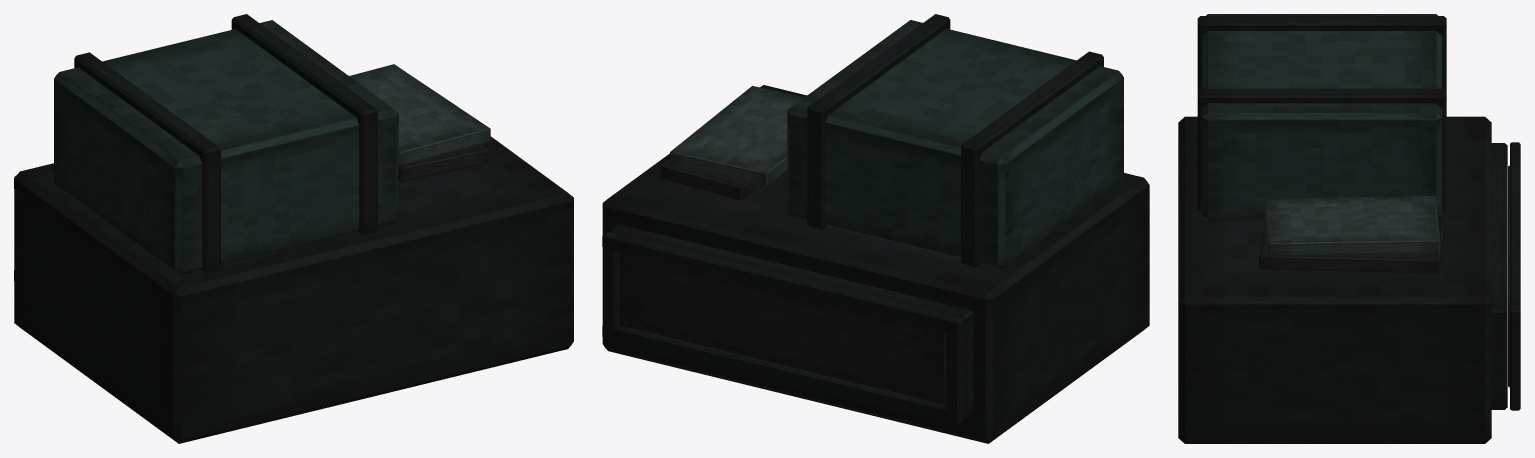
File: THStage_Bay_04_StorageBench.fbx
3 views of the same model, side by side, from view 1: azimuth 30°, elevation 25°; view 2: azimuth 150°, elevation 25°; view 3: azimuth 270°, elevation 25° (orthographic). The views are drawn at different scales.
Visible parts, largest first — view 1: THStage_Bay_04_StorageBench; view 2: THStage_Bay_04_StorageBench; view 3: THStage_Bay_04_StorageBench.
Boxes of the visible parts, x1,y1,x2,y2 form: THStage_Bay_04_StorageBench: (14,14,573,443); THStage_Bay_04_StorageBench: (602,14,1149,443); THStage_Bay_04_StorageBench: (1178,14,1520,443).
Bounding box in the file's own units: 1.02 × 0.68 × 0.7975.
1 material, 1 textured.
